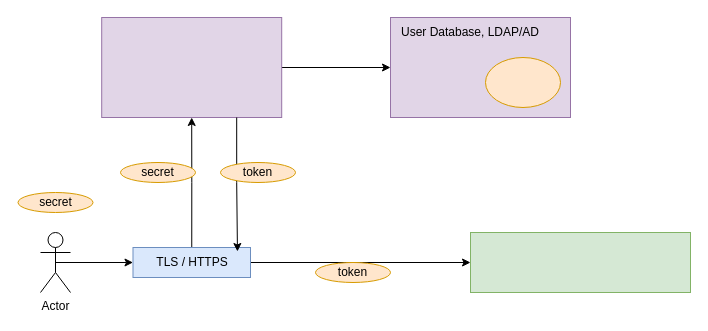
Image size: 708x331. Some labels were removed from this diagram. Each missing label, with the centre of its shape:
"salted/hashed secret" goes at (522,82).
"Server-Application" goes at (580,262).
"Trusted Authenticator" goes at (191,67).
